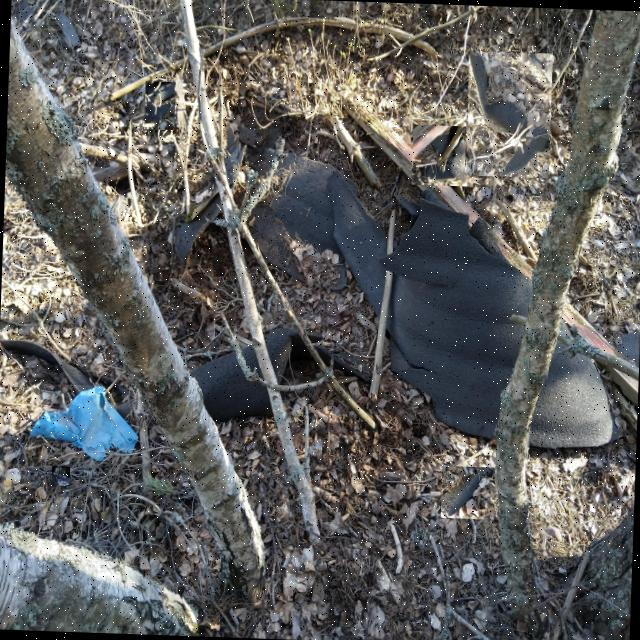Other plastic bottle: (469, 51, 549, 176), (411, 127, 490, 184), (442, 468, 494, 517), (145, 83, 175, 128), (613, 332, 639, 366)
Plastic film: (30, 385, 138, 460)
Styrofoam piece: (52, 466, 69, 485)
